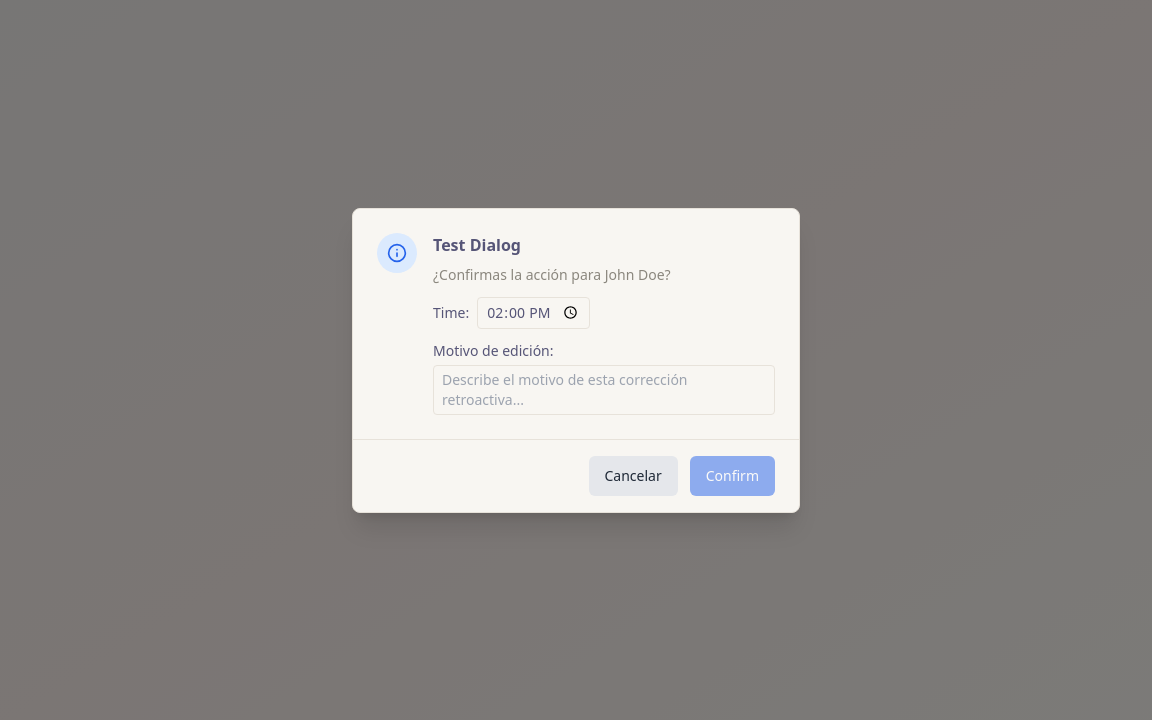
it: AttendanceTimeDialog › shows reason validation error when reason text is too short
Type "abc" into the text box with placeholder "Describe el motivo de esta corrección retroactiva...".
click(604, 390); type("abc")  # box [433,364,775,414]
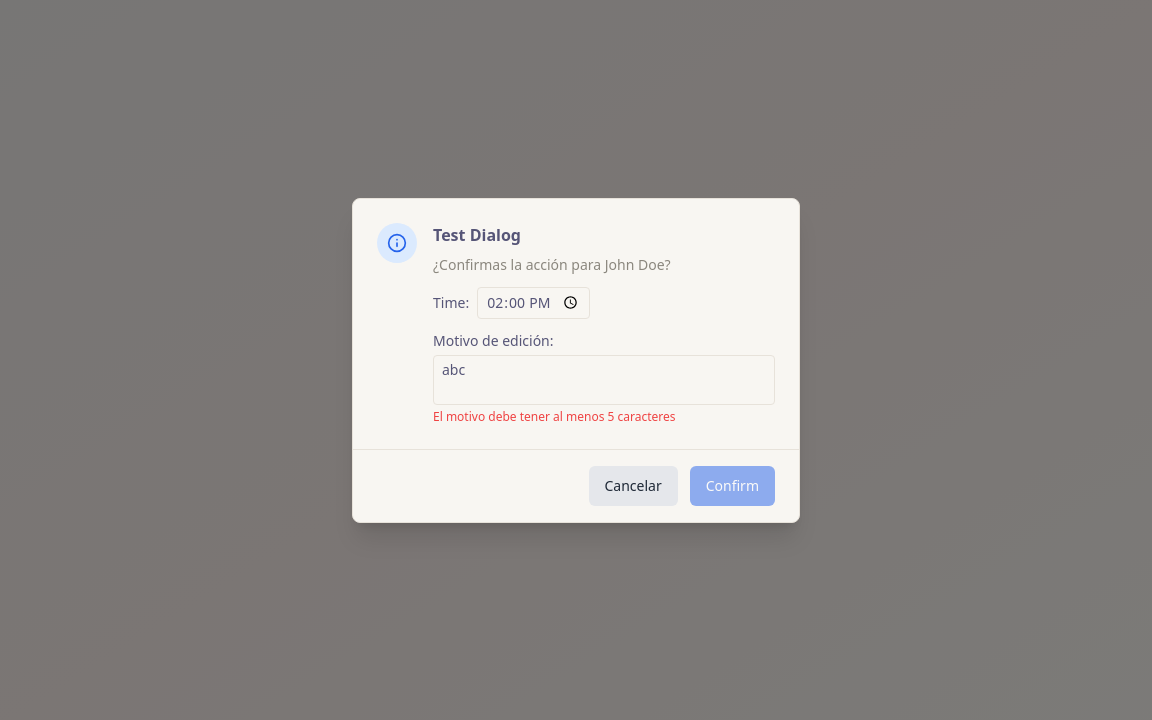
Now the text "El motivo debe tener al menos 5 caracteres" is shown, box [433,408,676,424]
